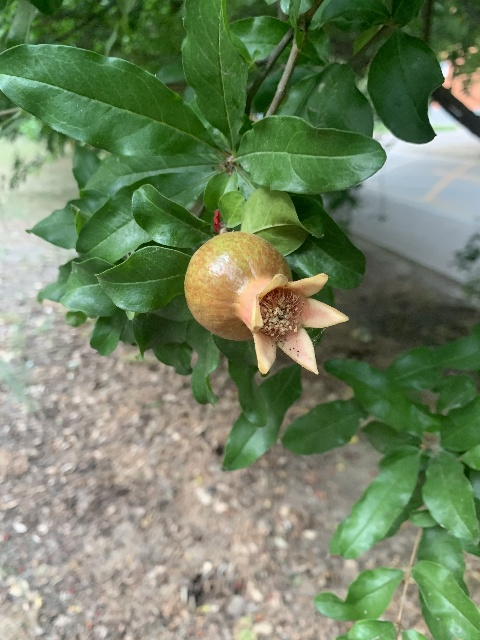early-fruit: (184, 231, 349, 378)
